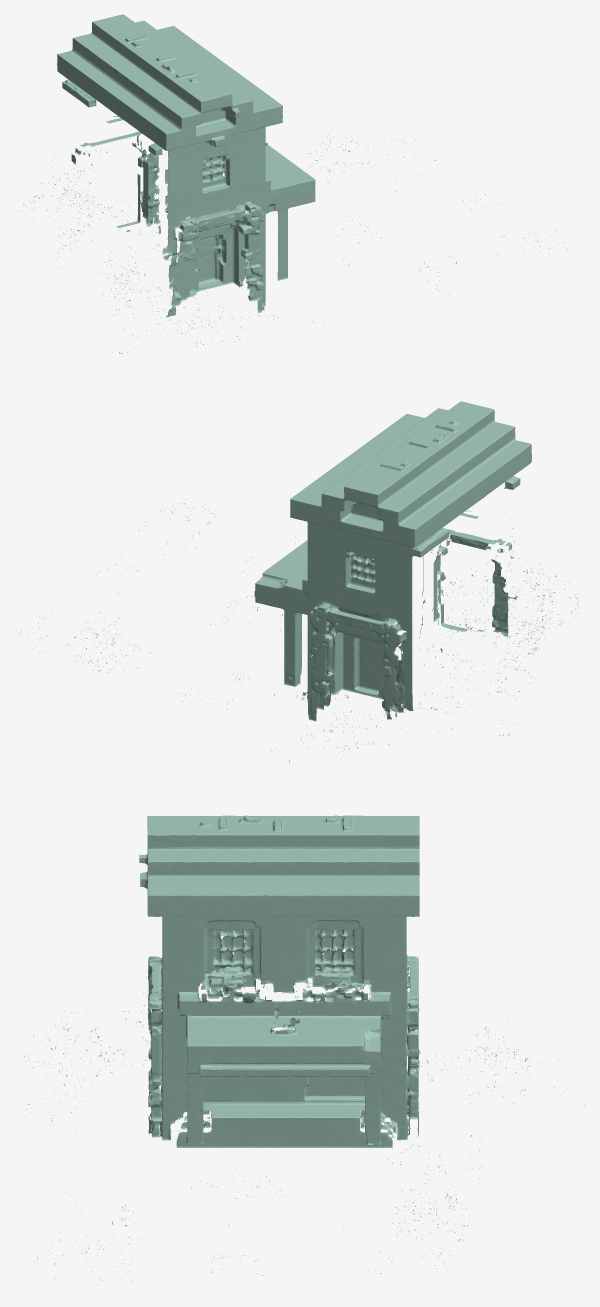
The model's file is block-02-building-0.glb.
3 renders of one model, top to bottom at view 1: azimuth 30°, elevation 25°; view 2: azimuth 150°, elevation 25°; view 3: azimuth 270°, elevation 25°, orthographic. The views are drawn at different scales.
Visible parts, largest first — view 1: building_0; view 2: building_0; view 3: building_0.
Boxes of the visible parts, left/top/right/bottom form: building_0: left=20, top=14, right=579, bottom=353; building_0: left=17, top=401, right=580, bottom=786; building_0: left=14, top=815, right=585, bottom=1291.
Size of the model in its own units: 0.9367 by 0.6117 by 0.9121.
